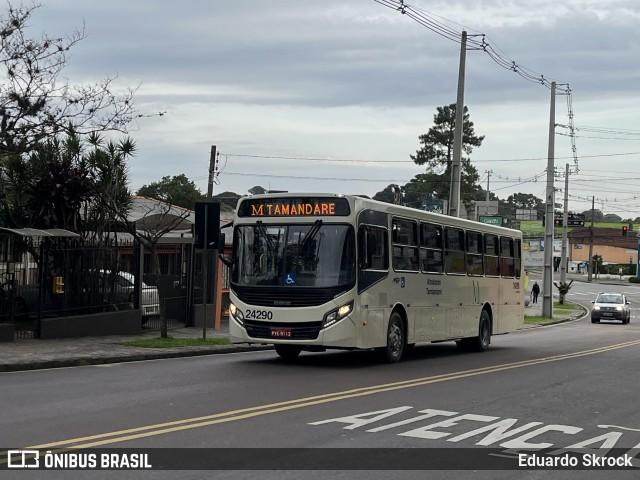TAMANDARE: (263, 199, 338, 218)
